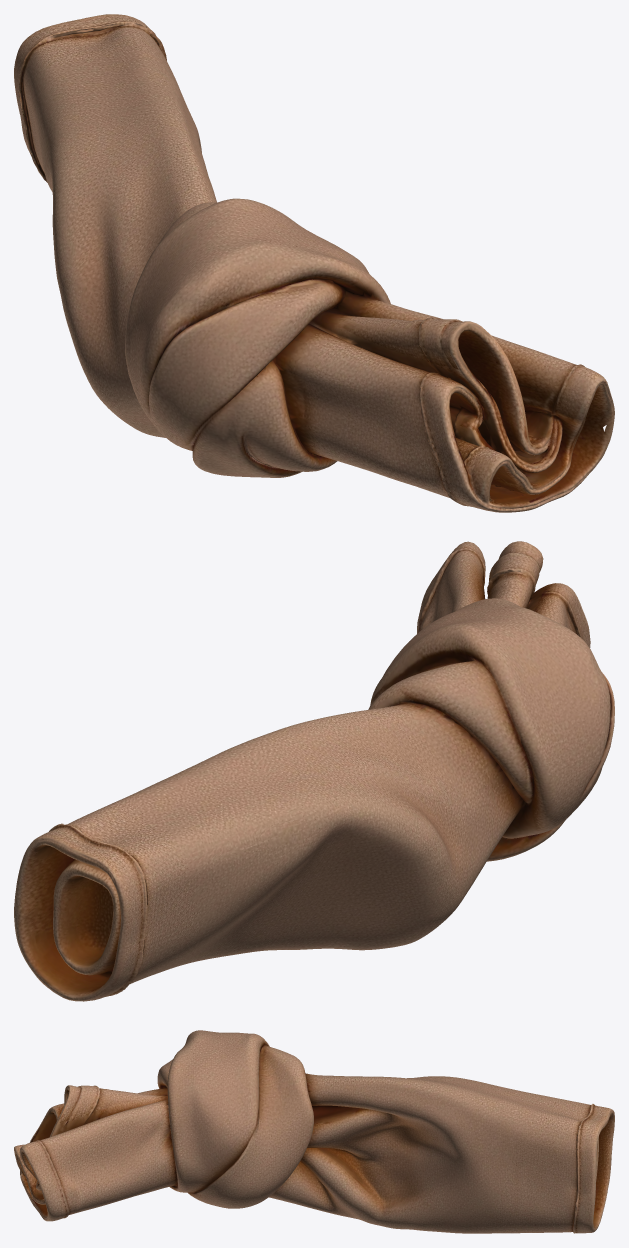
Rendered from decor-napkin-folded.glb.
3 views of the same model, one above another, from view 1: azimuth 30°, elevation 25°; view 2: azimuth 150°, elevation 25°; view 3: azimuth 270°, elevation 25° (orthographic). The views are drawn at different scales.
Visible parts, largest first — view 1: tripo_node_e236d91f-1a7b-45b6-9e8c-2dee1d4c4bae; view 2: tripo_node_e236d91f-1a7b-45b6-9e8c-2dee1d4c4bae; view 3: tripo_node_e236d91f-1a7b-45b6-9e8c-2dee1d4c4bae.
Boxes of the visible parts, box(x1,y1,x2,y2) form: tripo_node_e236d91f-1a7b-45b6-9e8c-2dee1d4c4bae: box(14, 14, 614, 512); tripo_node_e236d91f-1a7b-45b6-9e8c-2dee1d4c4bae: box(14, 541, 614, 1001); tripo_node_e236d91f-1a7b-45b6-9e8c-2dee1d4c4bae: box(14, 1030, 614, 1233).
Size of the model in its own units: 0.122 by 0.1 by 0.3078.
Materials: 1 (1 with a texture image).
